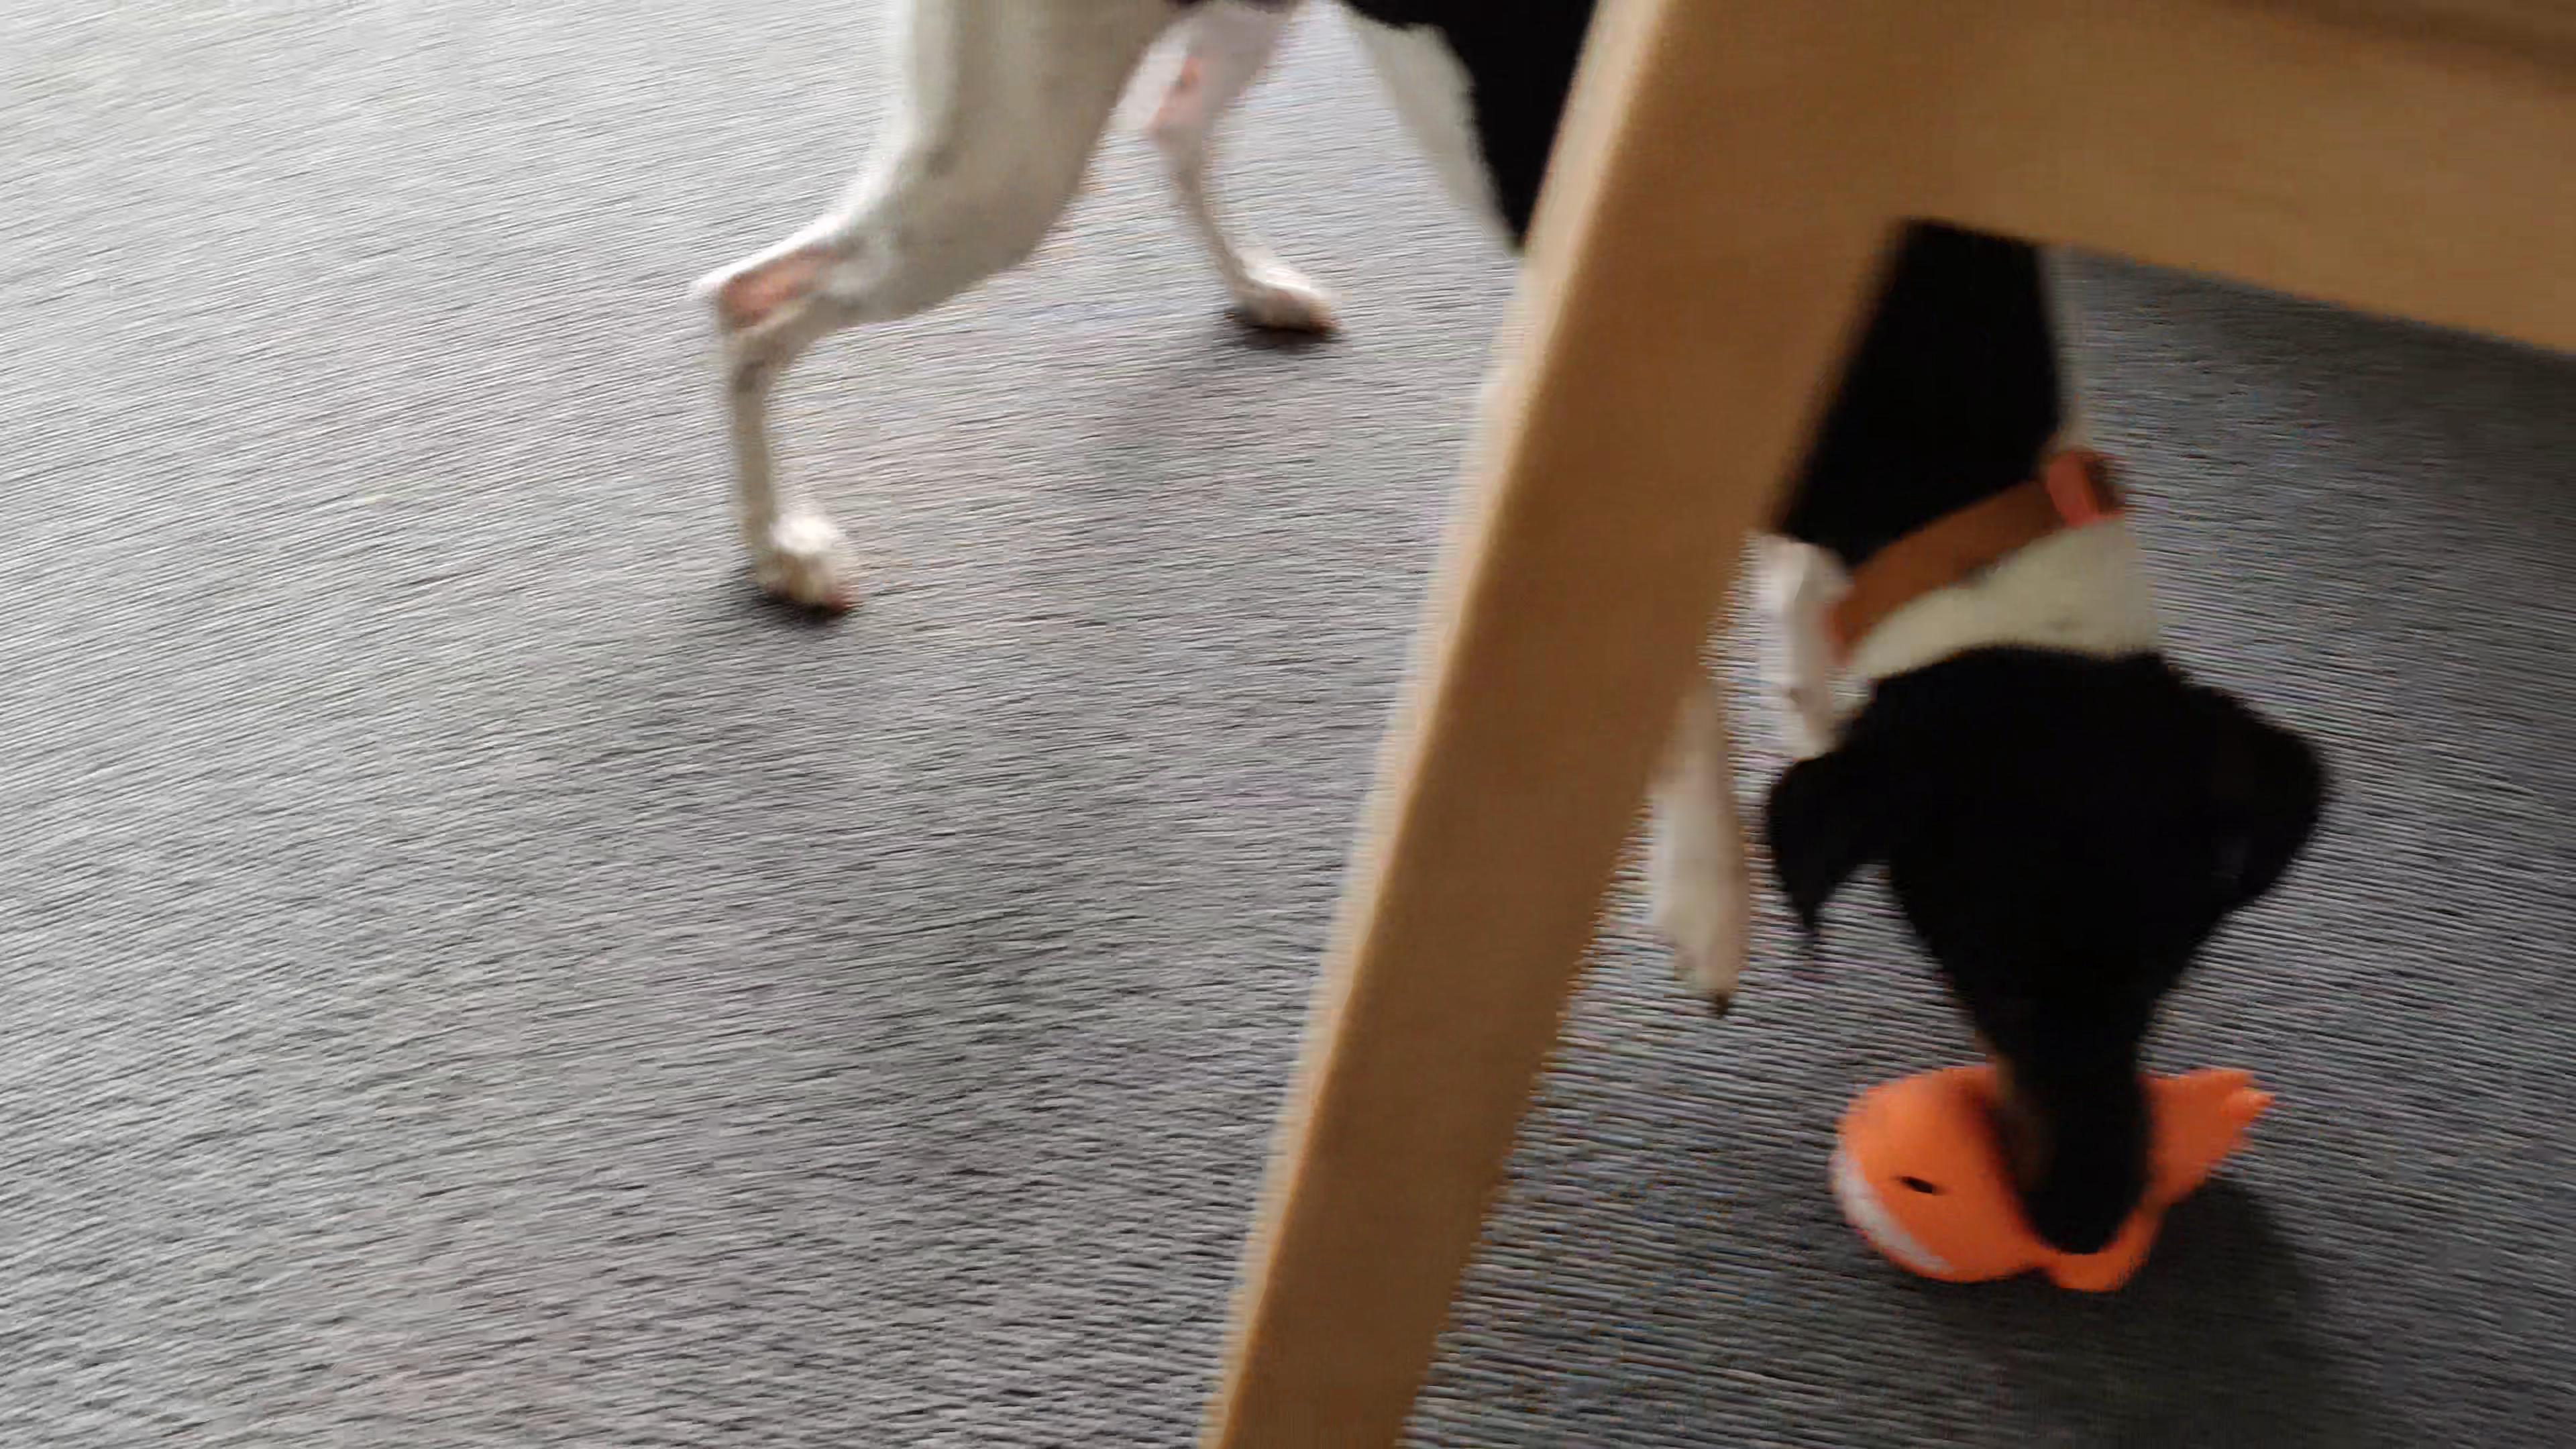Dog: (678, 0, 2348, 1258)
